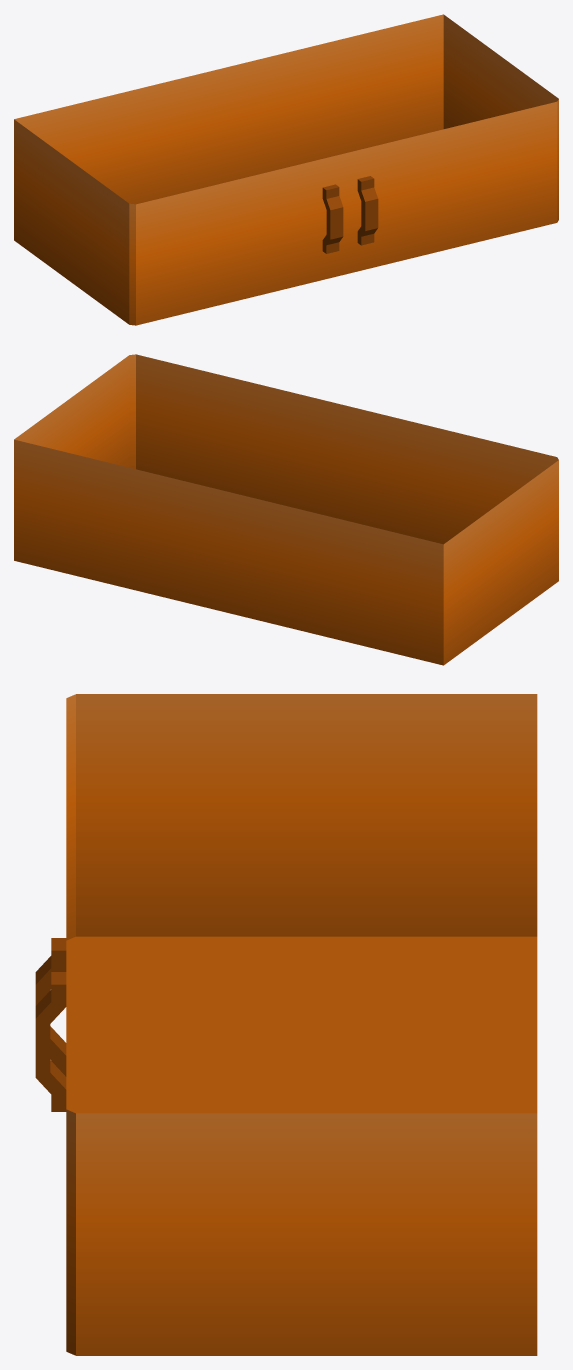
File: Counter_01_v05_D_C03.fbx
3 views of the same model, one above another, from view 1: azimuth 30°, elevation 25°; view 2: azimuth 150°, elevation 25°; view 3: azimuth 270°, elevation 25° (orthographic). The views are drawn at different scales.
Parts seen in each view (by area): view 1: Counter_01_v05_D_C03; view 2: Counter_01_v05_D_C03; view 3: Counter_01_v05_D_C03.
Part boxes in pixels (x1=…): Counter_01_v05_D_C03: x1=14, y1=14, x2=558, y2=325; Counter_01_v05_D_C03: x1=14, y1=354, x2=558, y2=665; Counter_01_v05_D_C03: x1=35, y1=694, x2=537, y2=1355.
Bounding box in the file's own units: 200 × 53.91 × 101.
